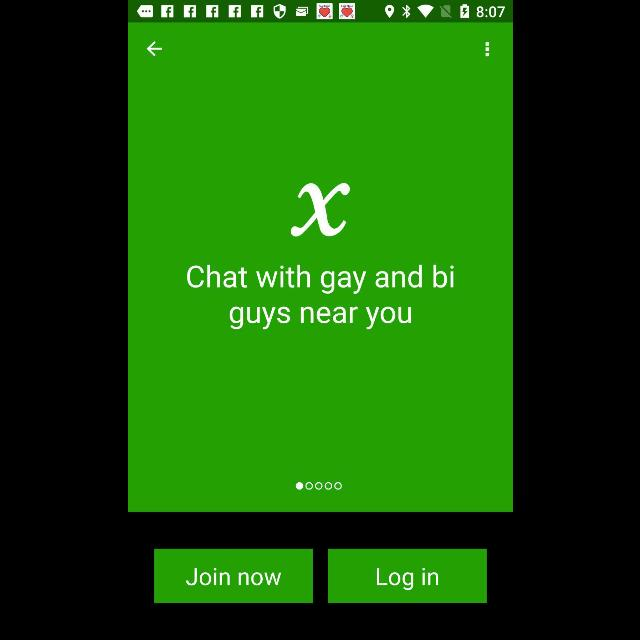icon: (146, 41, 162, 57), (484, 42, 488, 56)
image: (290, 183, 350, 237)
pageindicator: (294, 482, 342, 490)
text: (186, 264, 454, 330)
textbutton: (328, 549, 487, 603), (154, 549, 312, 603)
uppertaskbar: (128, 1, 512, 23)
